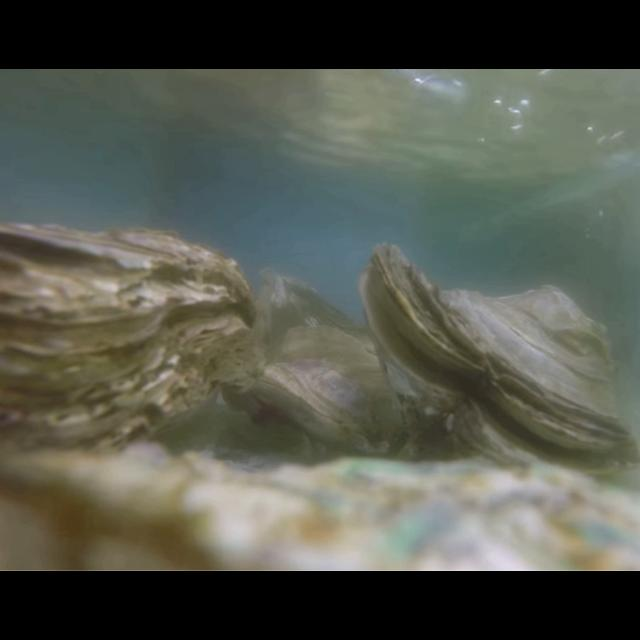Oyster-Closed: (0, 442, 640, 572), (0, 223, 258, 479), (259, 325, 423, 463), (266, 275, 370, 361)
Oyster-Open: (358, 243, 640, 485)
